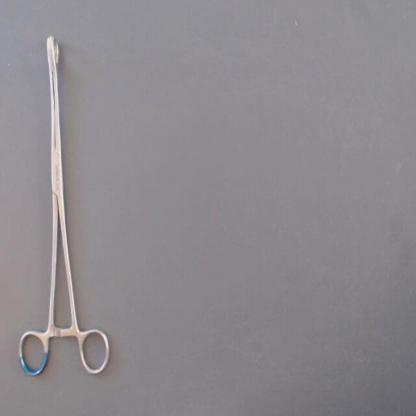Sponge Forceps: (11, 29, 116, 384)
